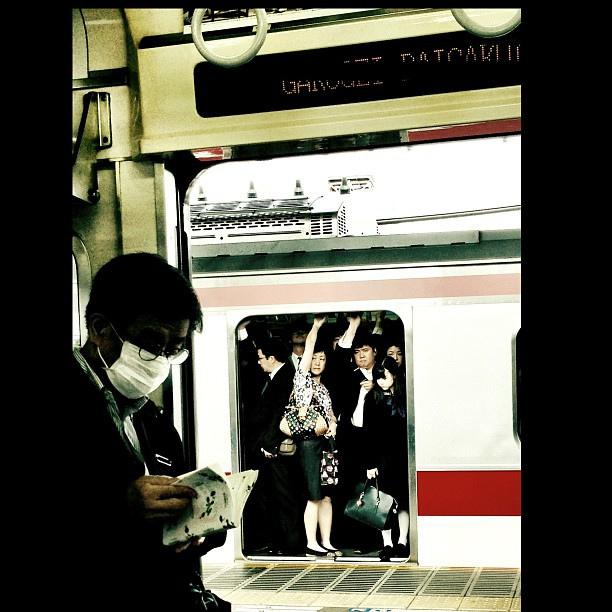Train: (191, 214, 545, 576)
